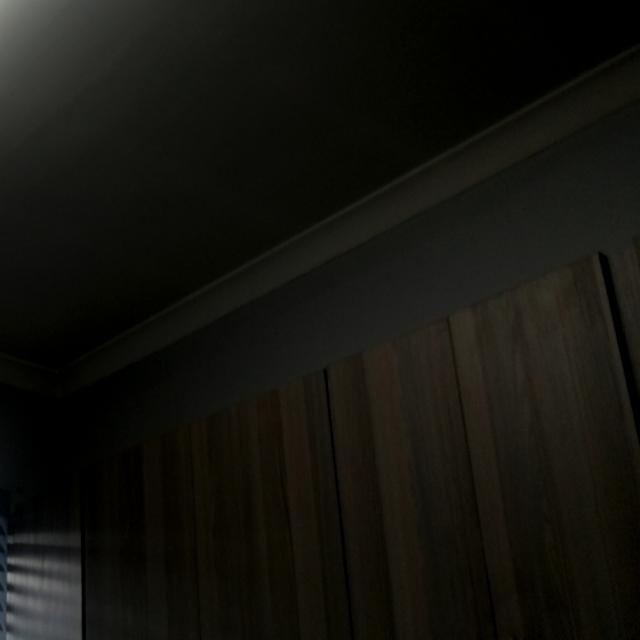fluorescent tube: (0, 0, 371, 166)
